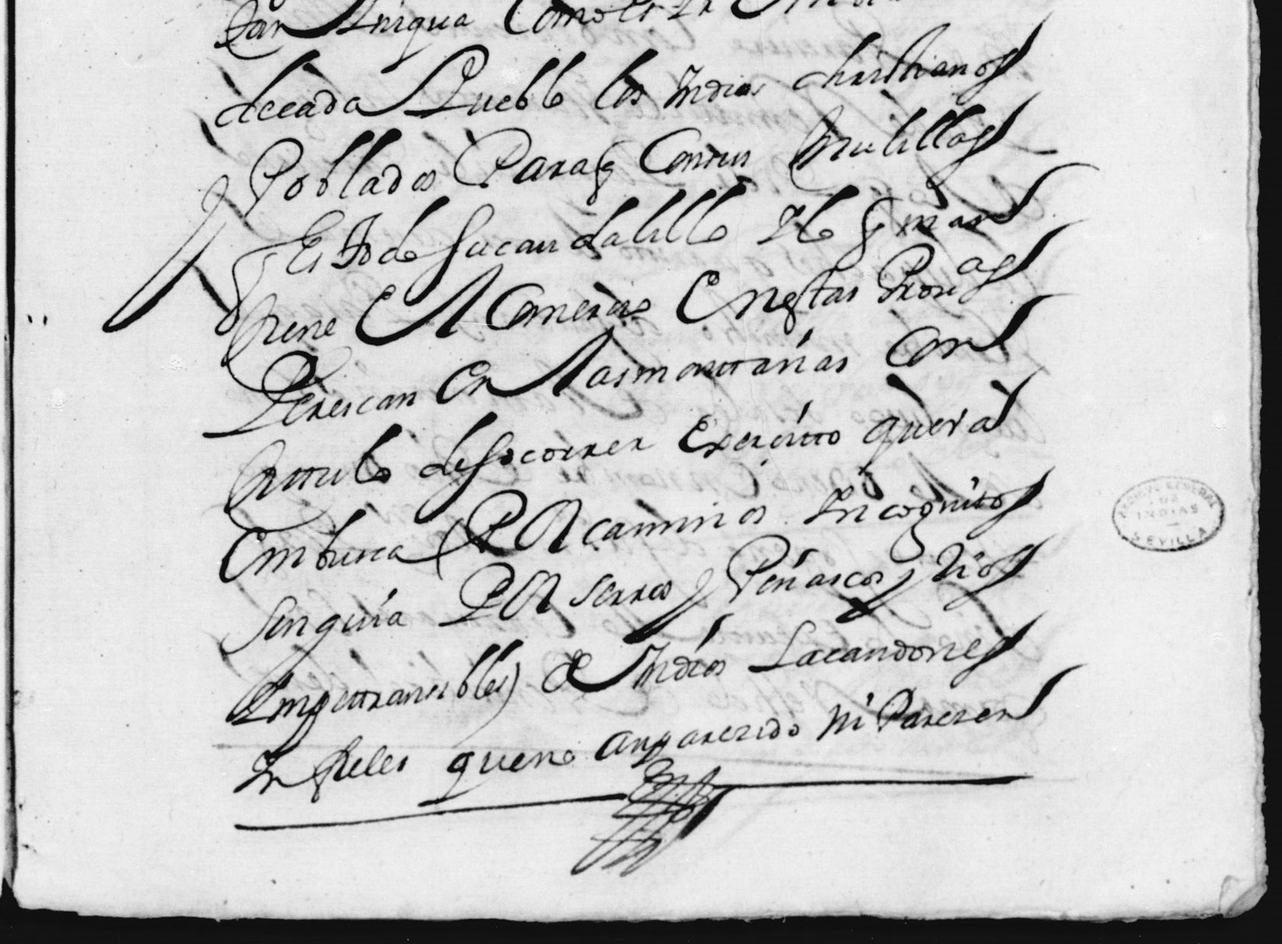lacandon: (747, 611, 1047, 689)
